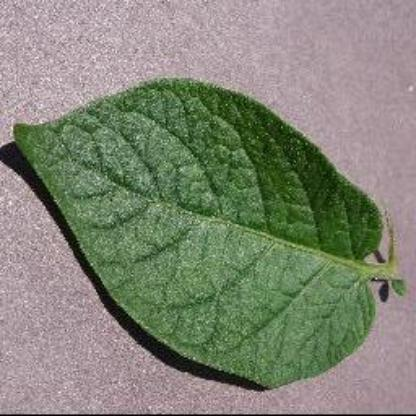Healthy-plant: (12, 78, 398, 388)
